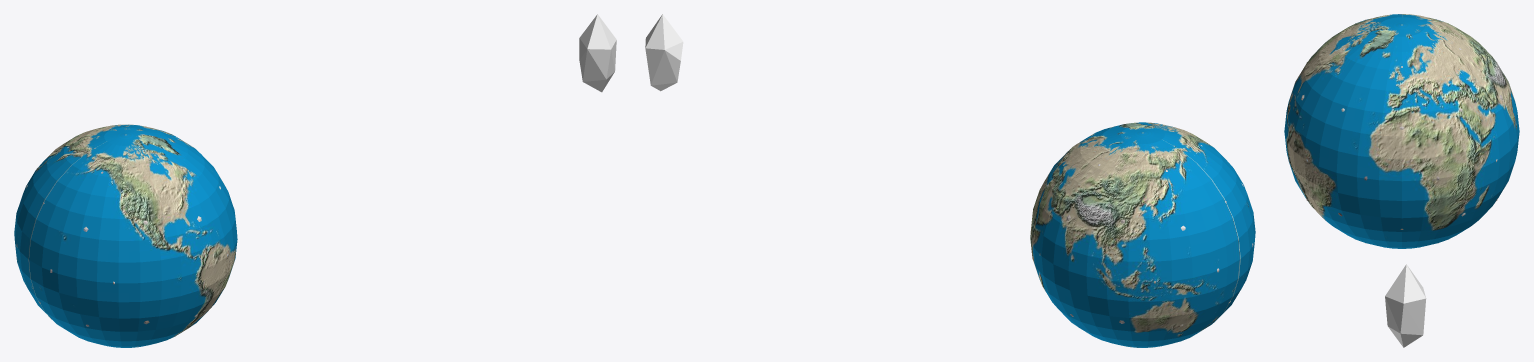
3 renders of one model, left to right at view 1: azimuth 30°, elevation 25°; view 2: azimuth 150°, elevation 25°; view 3: azimuth 270°, elevation 25°, orthographic. The views are drawn at different scales.
Visible parts, largest first — view 1: Sphere, Icosphere.002; view 2: Sphere, Icosphere.002; view 3: Sphere, Icosphere.002.
Boxes of the visible parts, x1=… form: Sphere: x1=14, y1=124, x2=237, y2=347; Icosphere.002: x1=579, y1=14, x2=616, y2=92; Sphere: x1=1030, y1=122, x2=1255, y2=347; Icosphere.002: x1=645, y1=14, x2=683, y2=91; Sphere: x1=1284, y1=14, x2=1519, y2=248; Icosphere.002: x1=1385, y1=264, x2=1426, y2=347.
Bounding box in the file's own units: 6.07 × 2.04 × 2.
Materials: 3 (2 with a texture image).
